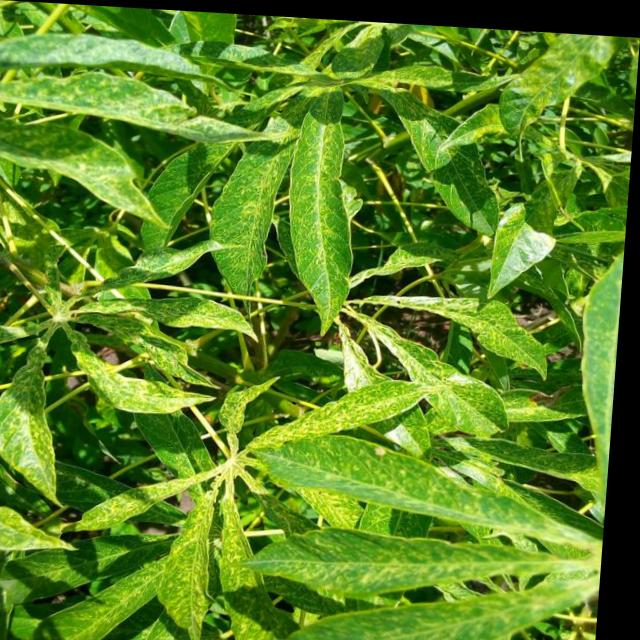Mosaico: (76, 364, 364, 617), (285, 227, 506, 455), (0, 210, 187, 458)
